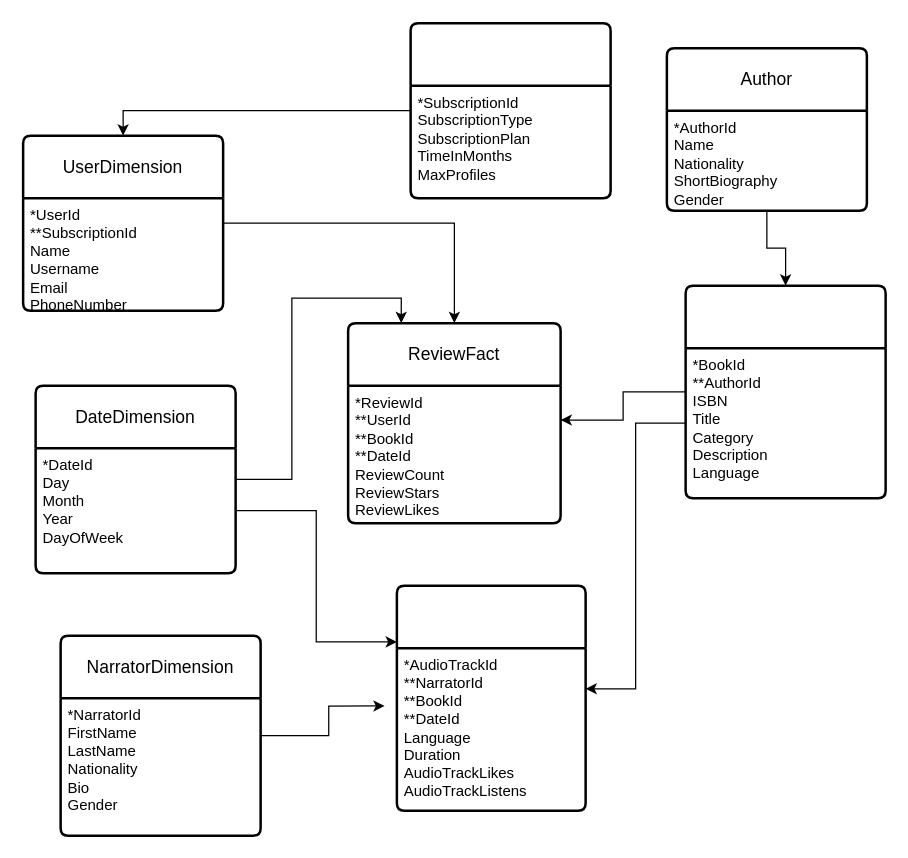
Image size: 908x858. Some labels were removed from this diagram. The box of each missing label's shape, as (x1, y1, x2, y2) in pixels:
AudioTrackFact: (395, 584, 586, 811)
BookDimension: (684, 284, 886, 499)
SubscribtionDimension: (409, 21, 611, 199)
